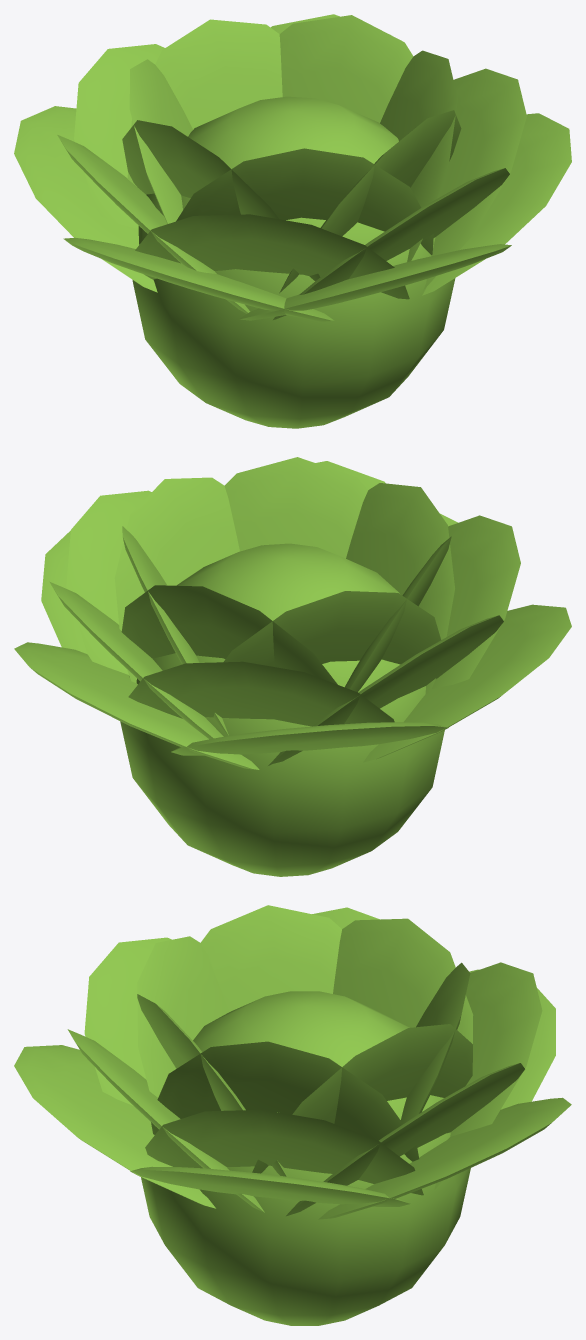
File: Lettuce.fbx
3 views of the same model, one above another, from view 1: azimuth 30°, elevation 25°; view 2: azimuth 150°, elevation 25°; view 3: azimuth 270°, elevation 25° (orthographic).
Parts seen in each view (by area): view 1: Lettuce; view 2: Lettuce; view 3: Lettuce.
Boxes of the visible parts, bbox=[...] form: Lettuce: bbox=[14, 14, 571, 428]; Lettuce: bbox=[14, 457, 571, 876]; Lettuce: bbox=[14, 905, 571, 1325].
Size of the model in its own units: 0.1507 by 0.0997 by 0.1493.
